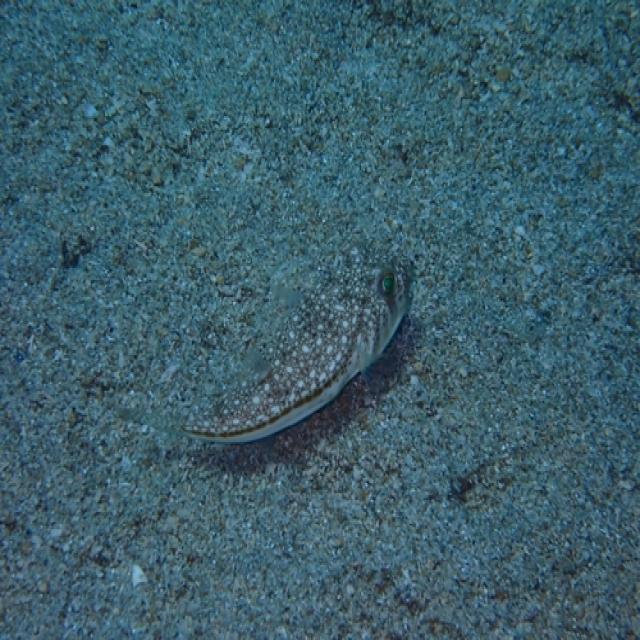Balik: (120, 256, 410, 443)
